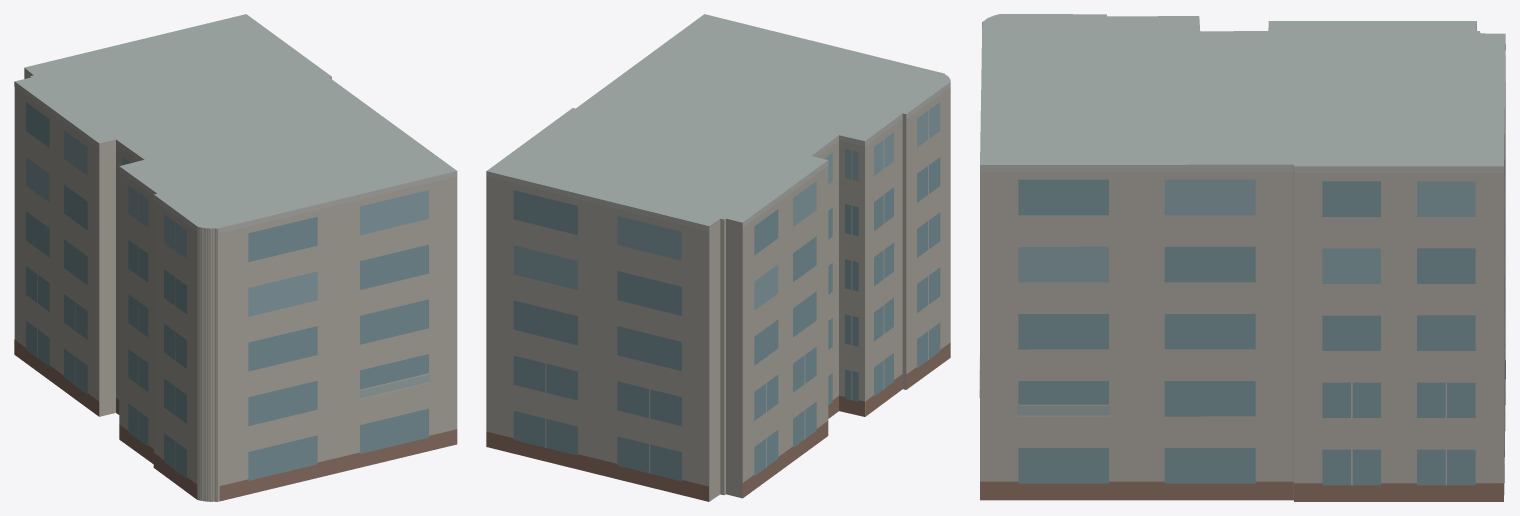
The model's file is survey-upis-32661782.glb.
3 renders of one model, left to right at view 1: azimuth 30°, elevation 25°; view 2: azimuth 150°, elevation 25°; view 3: azimuth 270°, elevation 25°, orthographic. The views are drawn at different scales.
Visible parts, largest first — view 1: survey-upis-32661782.tmp; view 2: survey-upis-32661782.tmp; view 3: survey-upis-32661782.tmp.
Part boxes in pixels (bbox=[...]): survey-upis-32661782.tmp: bbox=[14, 14, 457, 501]; survey-upis-32661782.tmp: bbox=[486, 14, 950, 501]; survey-upis-32661782.tmp: bbox=[979, 14, 1505, 501].
Bounding box in the file's own units: 12.1 × 12.4 × 17.65.
